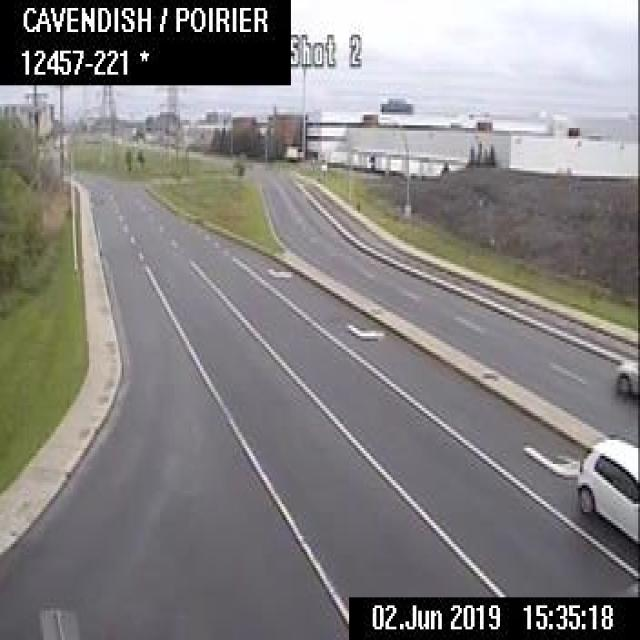vehicle: (575, 432, 638, 547), (611, 355, 638, 400)
